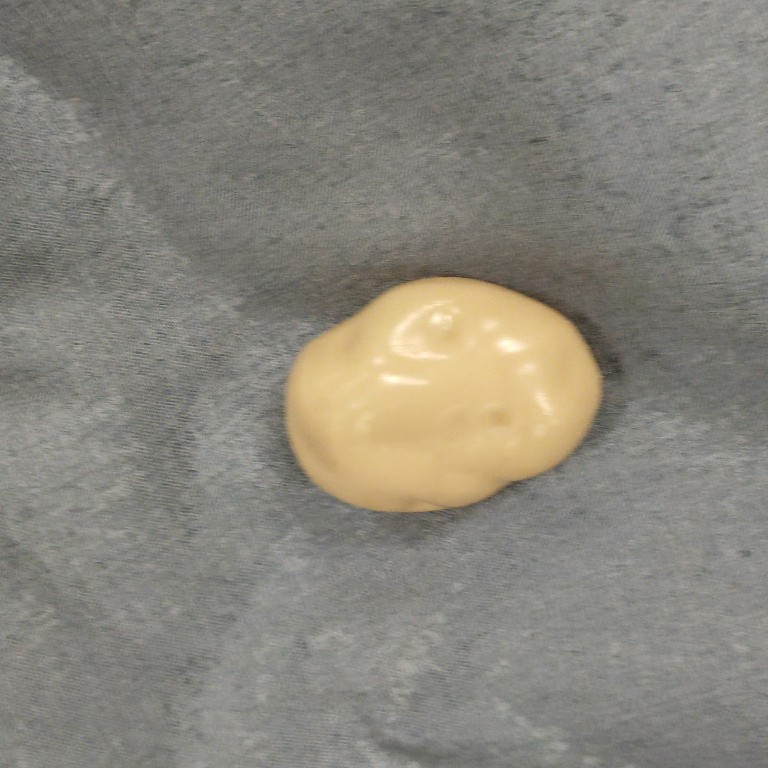fruit_potato: (276, 269, 609, 516)
